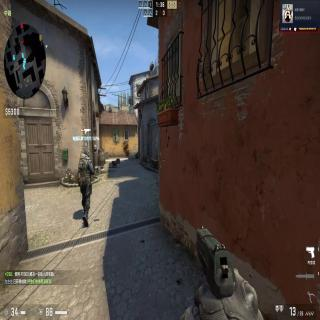CT-Body: (78, 149, 94, 229)
CT-Head: (84, 150, 90, 158)
